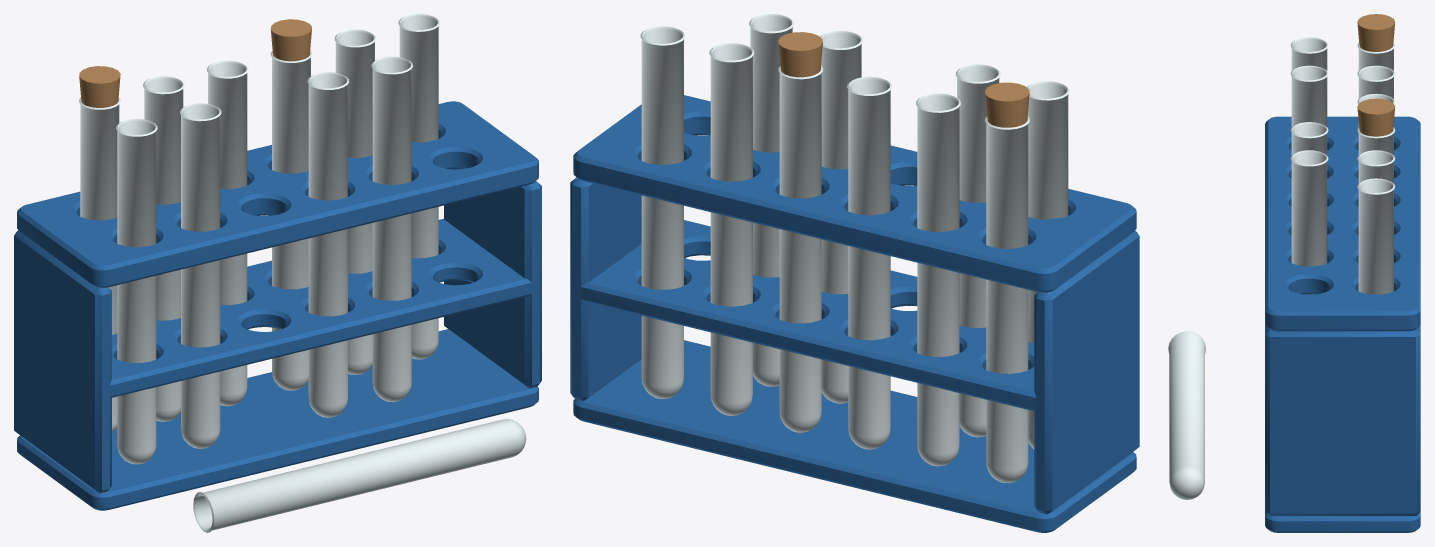
File: test-tube-rack.glb
3 views of the same model, side by side, from view 1: azimuth 30°, elevation 25°; view 2: azimuth 150°, elevation 25°; view 3: azimuth 270°, elevation 25° (orthographic). The views are drawn at different scales.
Visible parts, largest first — view 1: Test_Tube_Rack; view 2: Test_Tube_Rack; view 3: Test_Tube_Rack.
Boxes of the visible parts, left/top/right/bottom form: Test_Tube_Rack: left=14, top=14, right=541, bottom=532; Test_Tube_Rack: left=570, top=14, right=1139, bottom=532; Test_Tube_Rack: left=1168, top=14, right=1420, bottom=532.
Bounding box in the file's own units: 0.21 × 0.1706 × 0.1135.
